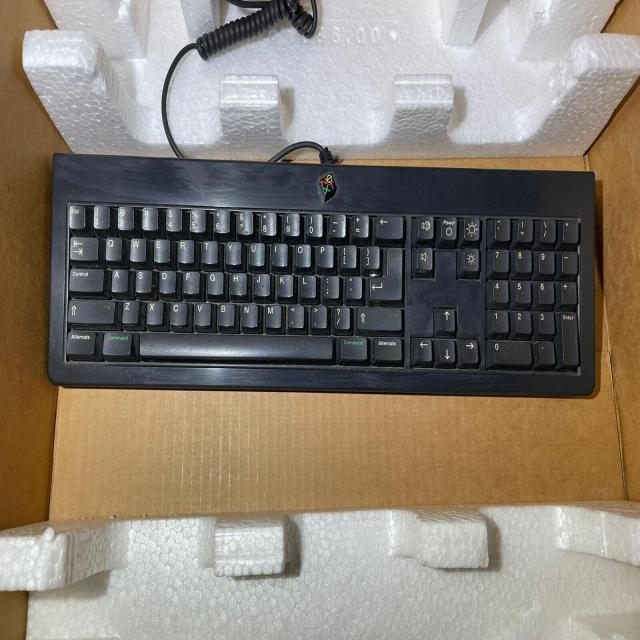keyboard: (48, 152, 594, 394)
